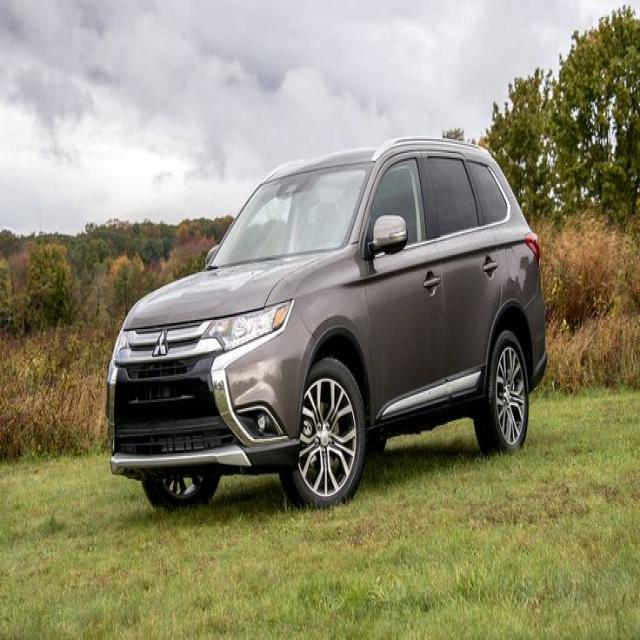light_vehicle: (106, 136, 548, 513)
